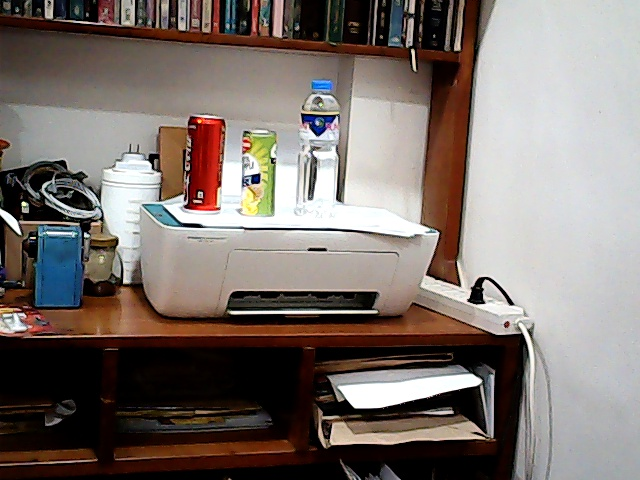Cola: (184, 113, 227, 215)
Pine Juice: (235, 120, 281, 228)
Summit Water: (292, 73, 346, 220)
